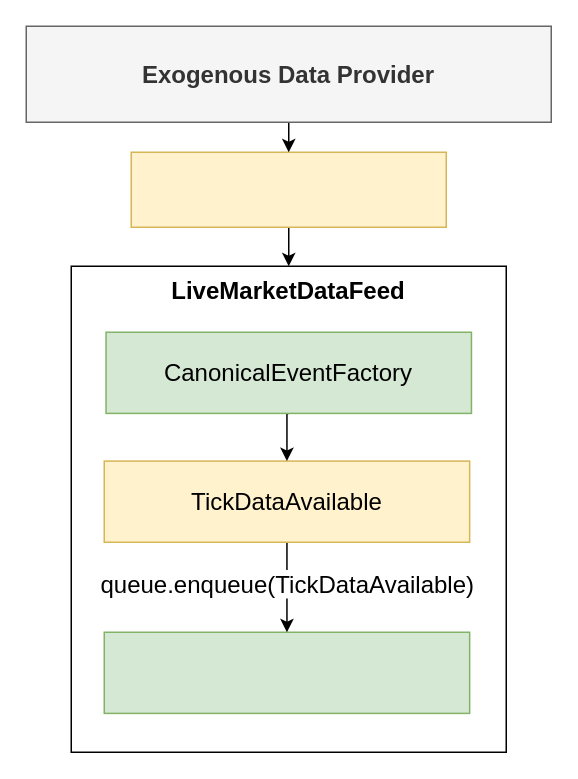
Some shapes in this 578 by 779 pixel diagram are drawn without their labels. Each missing label, with the centre of its shape:
"CanonicalEventQueue" belongs at (x=286, y=672).
"Tickers" belongs at (x=288, y=189).
